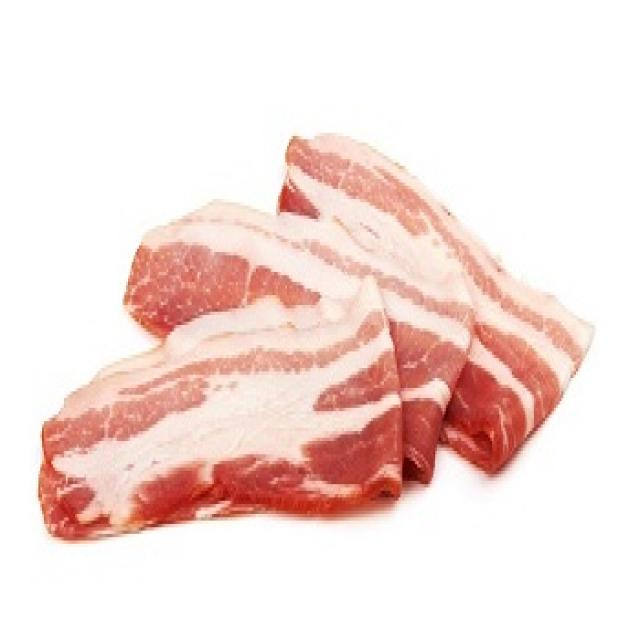Bacon Slice: (278, 132, 589, 480), (122, 195, 474, 490), (35, 282, 400, 534)
